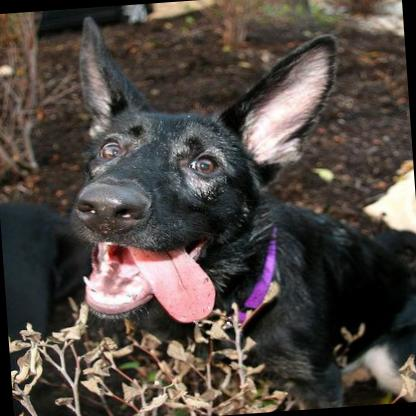German_shepherd: (48, 0, 416, 416)
